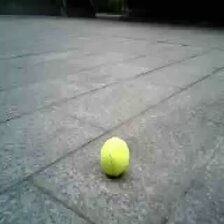tennis: (100, 137, 128, 174)
